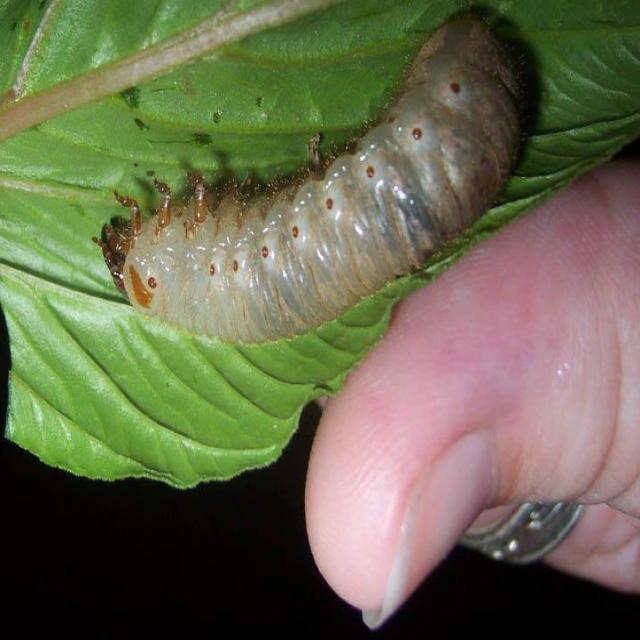grub: (83, 6, 538, 340)
